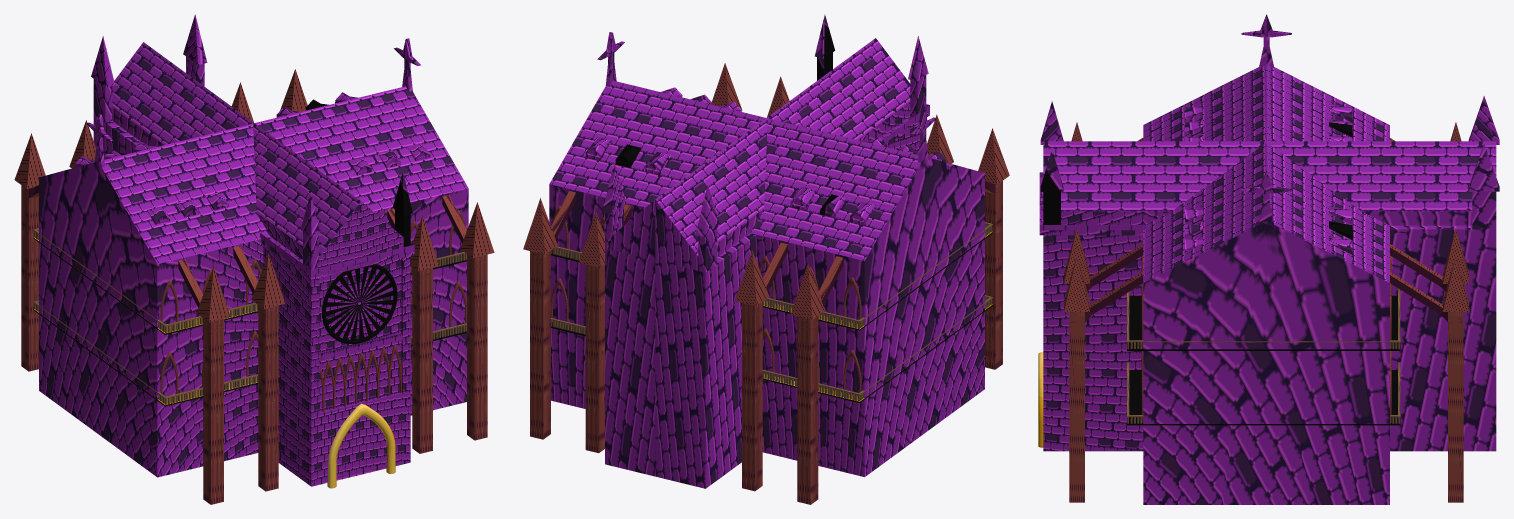
File: castelesterno (2).fbx
The picture shows the model from 3 angles, left to right: view 1: azimuth 30°, elevation 25°; view 2: azimuth 150°, elevation 25°; view 3: azimuth 270°, elevation 25°; orthographic projection. The views are drawn at different scales.
Visible parts, largest first — view 1: Torus.002; view 2: Torus.002; view 3: Torus.002.
Part boxes in pixels (x1,y1,x2,y2): Torus.002: (14,14,494,504); Torus.002: (523,14,1009,504); Torus.002: (1038,14,1499,504).
Bounding box in the file's own units: 4780 × 4769 × 5884.
8 materials, 7 textured.
